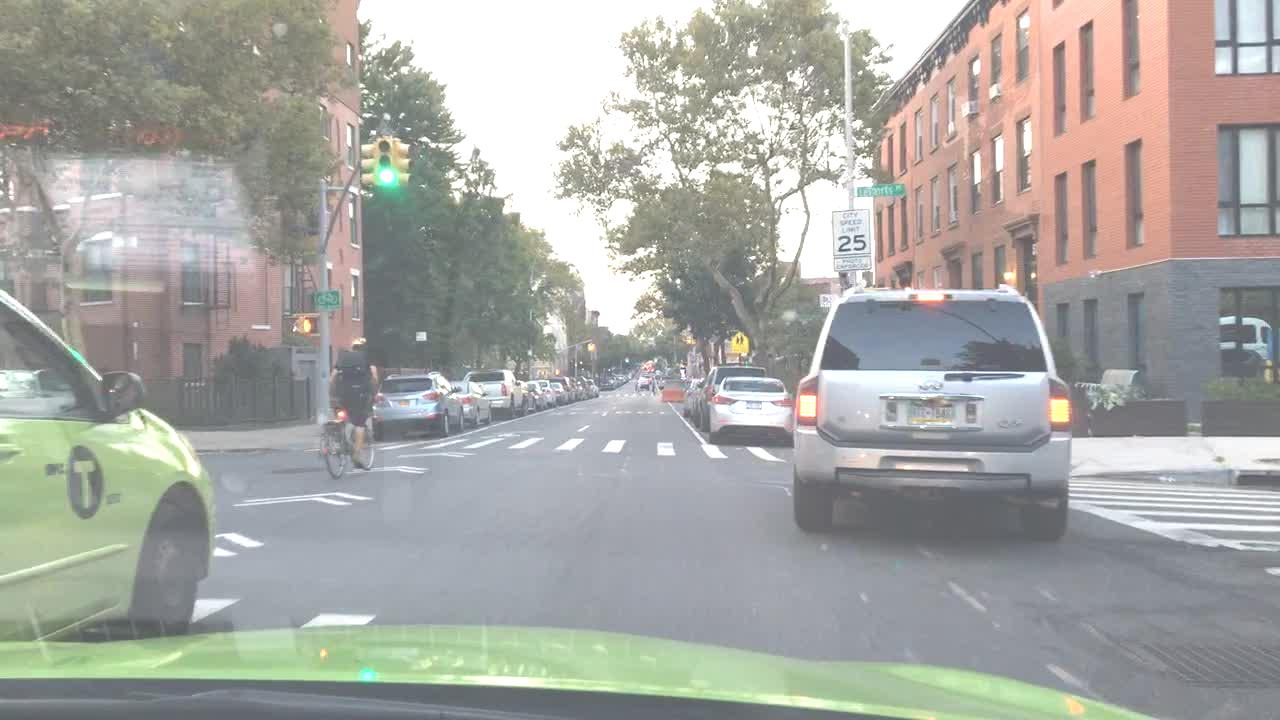Infiniti: (916, 373, 945, 395)
